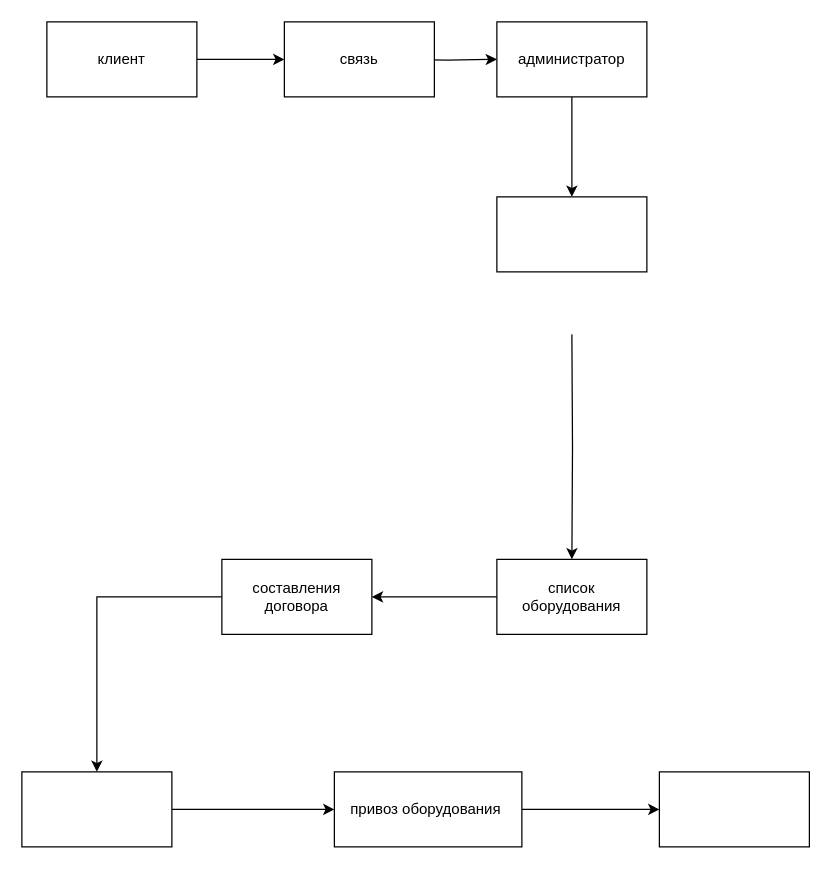
Image size: 831x869. Some labels were removed from this diagram. Here are the shapes that lost their labels. From the top down, the centre of each, then its label:
At (x=571, y=234): "договоренность об оборудовании".
At (x=96, y=809): "сбор необходимого оборудования на складе".
At (x=733, y=809): "оплата".
